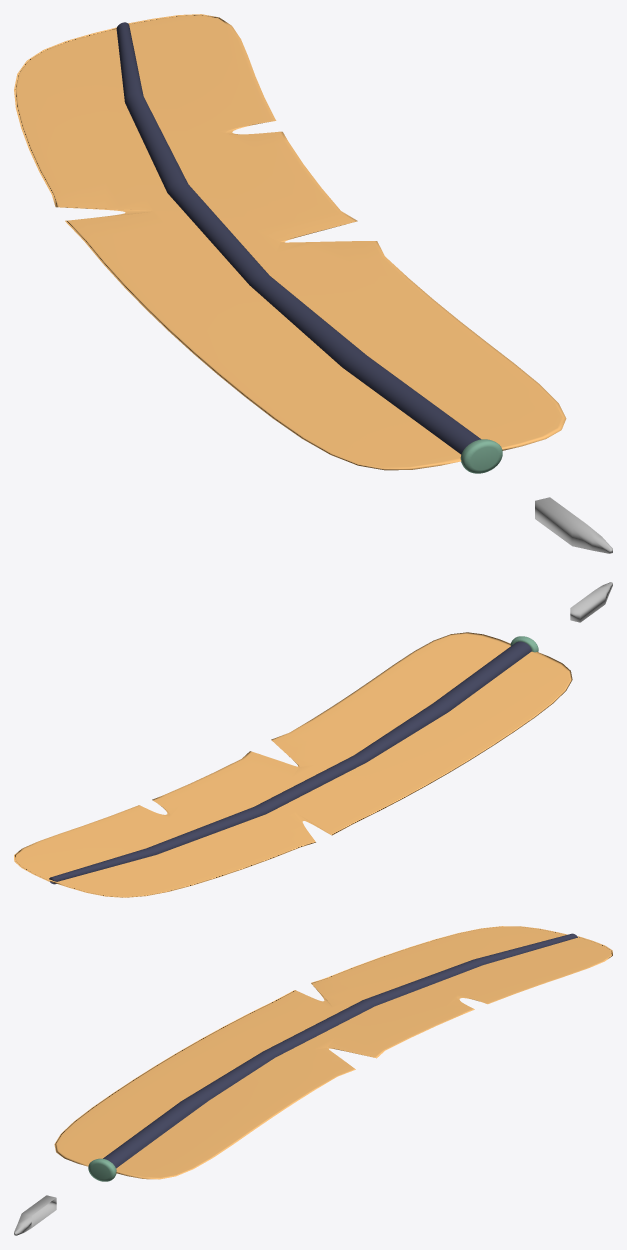
The model's file is pen.glb.
The picture shows the model from 3 angles, top to bottom: view 1: azimuth 30°, elevation 25°; view 2: azimuth 150°, elevation 25°; view 3: azimuth 330°, elevation 25°; orthographic projection. The views are drawn at different scales.
Parts seen in each view (by area): view 1: Cylinder.002, Cylinder, Cube, Cylinder.003; view 2: Cylinder.002, Cylinder, Cube; view 3: Cylinder.002, Cylinder, Cube, Cylinder.003.
Part boxes in pixels (left/top/right/bottom): Cylinder.002: left=14, top=14, right=566, bottom=470; Cylinder: left=116, top=22, right=480, bottom=454; Cube: left=535, top=497, right=612, bottom=553; Cylinder.003: left=460, top=439, right=502, bottom=473; Cylinder.002: left=14, top=632, right=572, bottom=897; Cylinder: left=49, top=641, right=531, bottom=884; Cube: left=570, top=582, right=612, bottom=622; Cylinder.002: left=54, top=926, right=612, bottom=1179; Cylinder: left=103, top=933, right=577, bottom=1168; Cube: left=14, top=1195, right=56, bottom=1235; Cylinder.003: left=88, top=1158, right=116, bottom=1181.
Bounding box in the file's own units: 1.92 × 0.1597 × 6.12.
